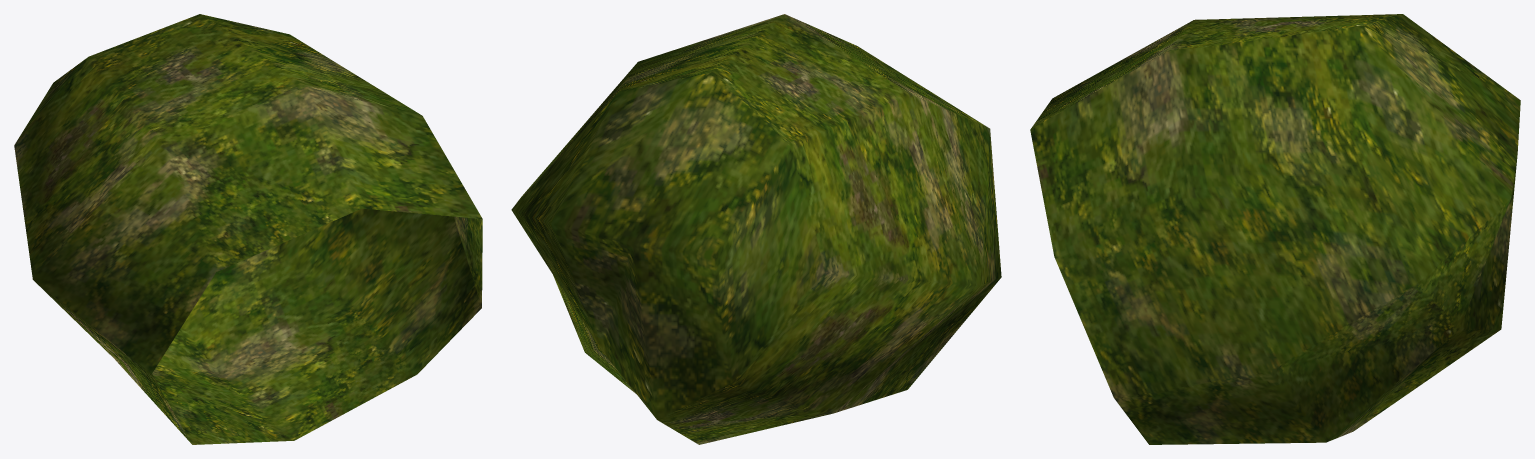
File: OVERHILL_A_01_BR_ROCK204.fbx
3 views of the same model, side by side, from view 1: azimuth 30°, elevation 25°; view 2: azimuth 150°, elevation 25°; view 3: azimuth 270°, elevation 25° (orthographic). The views are drawn at different scales.
Visible parts, largest first — view 1: OVERHILL_A_01_BR_ROCK204; view 2: OVERHILL_A_01_BR_ROCK204; view 3: OVERHILL_A_01_BR_ROCK204.
Boxes of the visible parts, x1=… form: OVERHILL_A_01_BR_ROCK204: x1=14, y1=14, x2=482, y2=444; OVERHILL_A_01_BR_ROCK204: x1=511, y1=14, x2=1001, y2=444; OVERHILL_A_01_BR_ROCK204: x1=1030, y1=14, x2=1520, y2=444.
Bounding box in the file's own units: 12263 × 9949 × 10888.
1 material, 1 textured.
